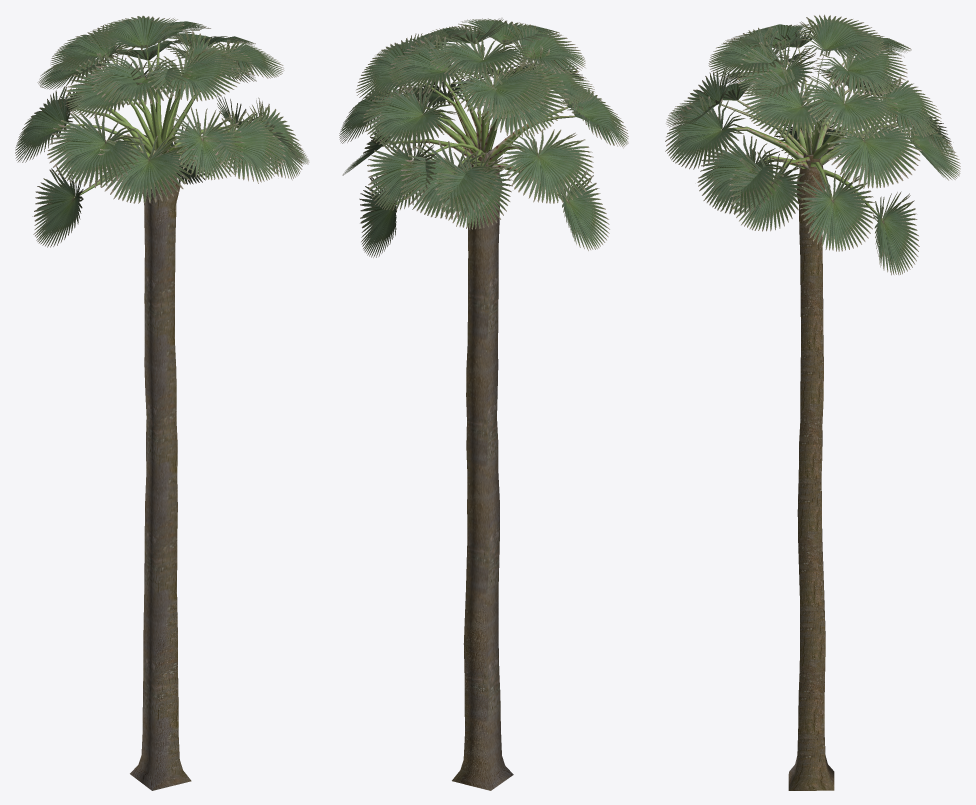
File: WashingtoniaFilifera.glb
The picture shows the model from 3 angles, left to right: view 1: azimuth 30°, elevation 25°; view 2: azimuth 150°, elevation 25°; view 3: azimuth 270°, elevation 25°; orthographic projection.
Visible parts, largest first — view 1: California_Palm__Realistic_LOD3; view 2: California_Palm__Realistic_LOD3; view 3: California_Palm__Realistic_LOD3.
Boxes of the visible parts, left/top/right/bottom form: California_Palm__Realistic_LOD3: left=15, top=15, right=309, bottom=790; California_Palm__Realistic_LOD3: left=339, top=18, right=628, bottom=790; California_Palm__Realistic_LOD3: left=665, top=14, right=960, bottom=790.
Bounding box in the file's own units: 6.51 × 18.12 × 6.7.
Materials: 1 (1 with a texture image).
